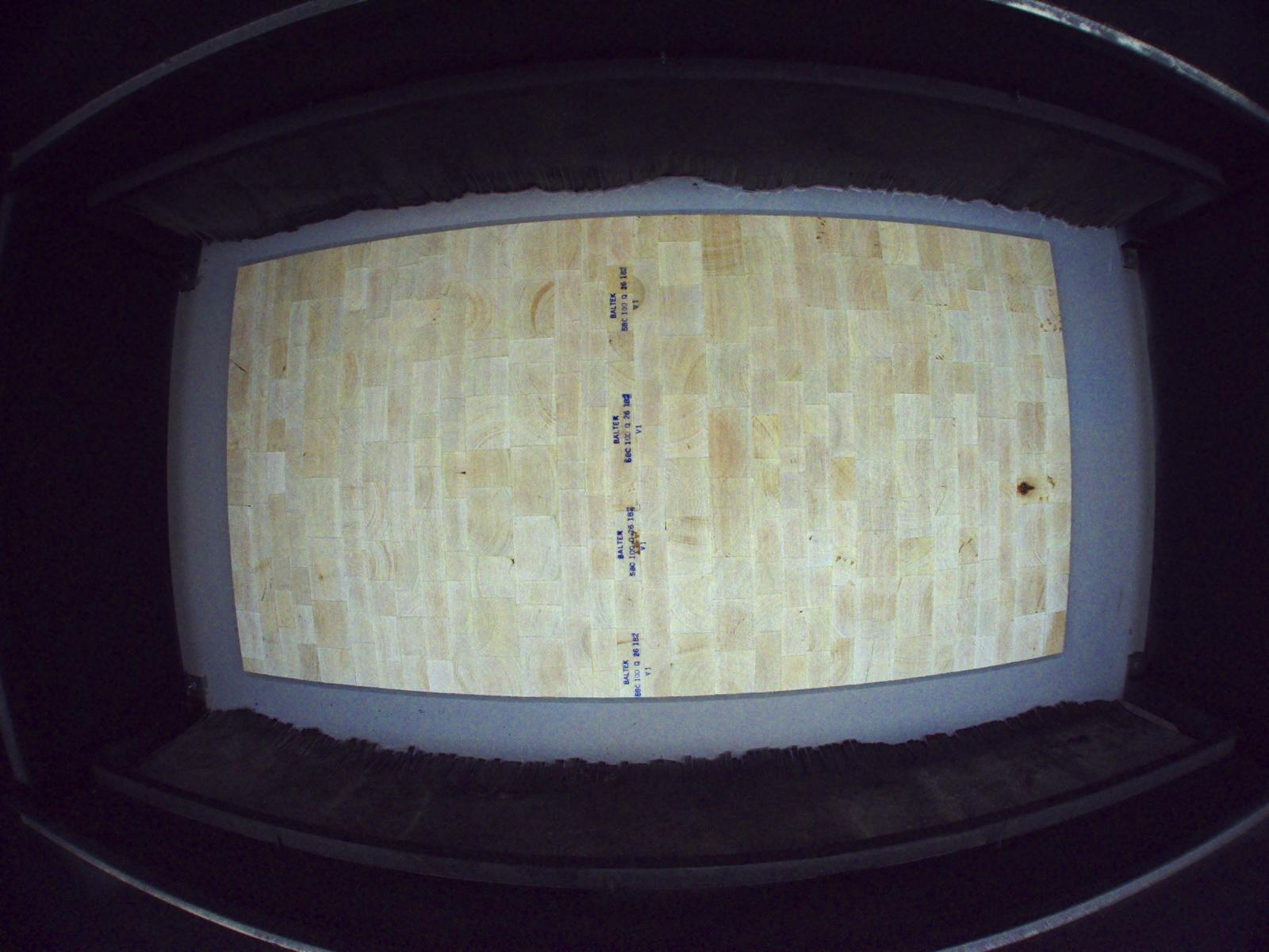nudillo: (1016, 480, 1037, 498)
